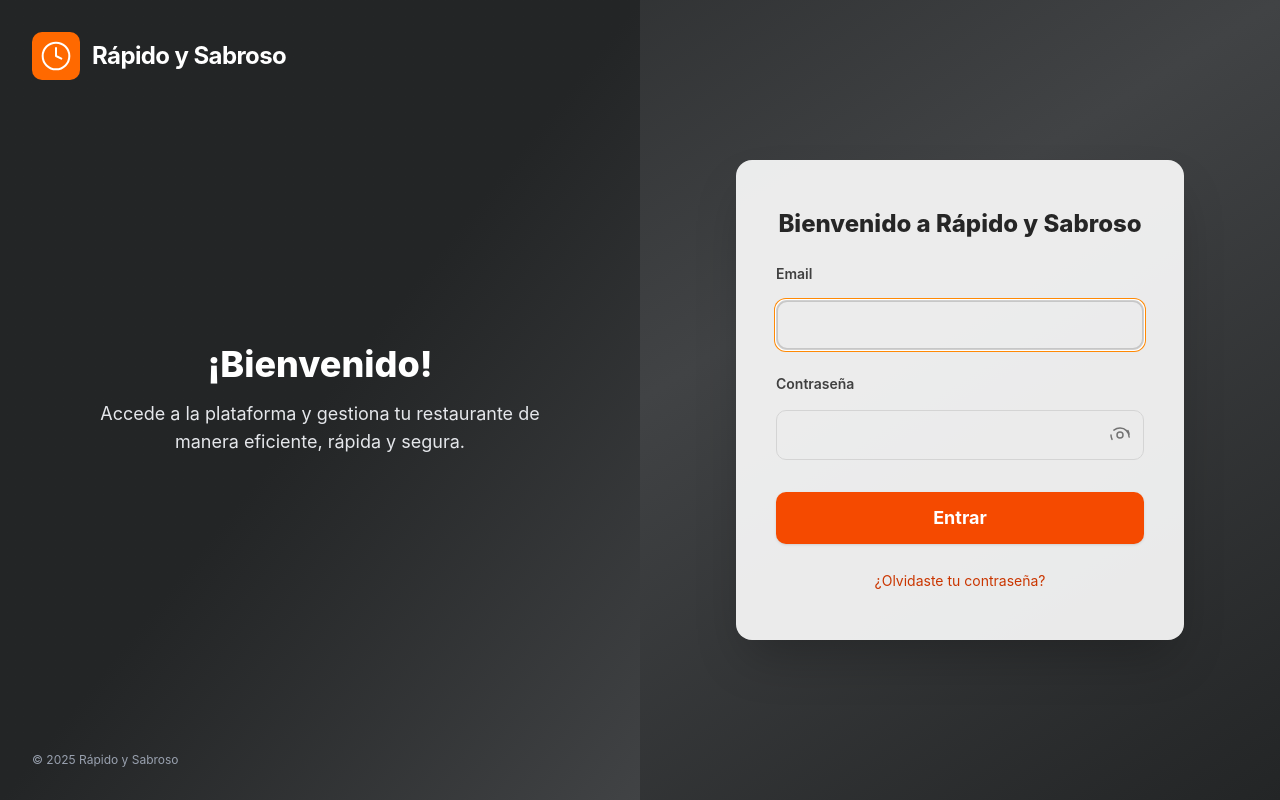
Scenario: Login › shows network error on fetch failure
The width and height of the screenshot is (1280, 800).
In the field labelled "Email": (960, 325) 776,300 -> 1144,350, type "test@test.com"
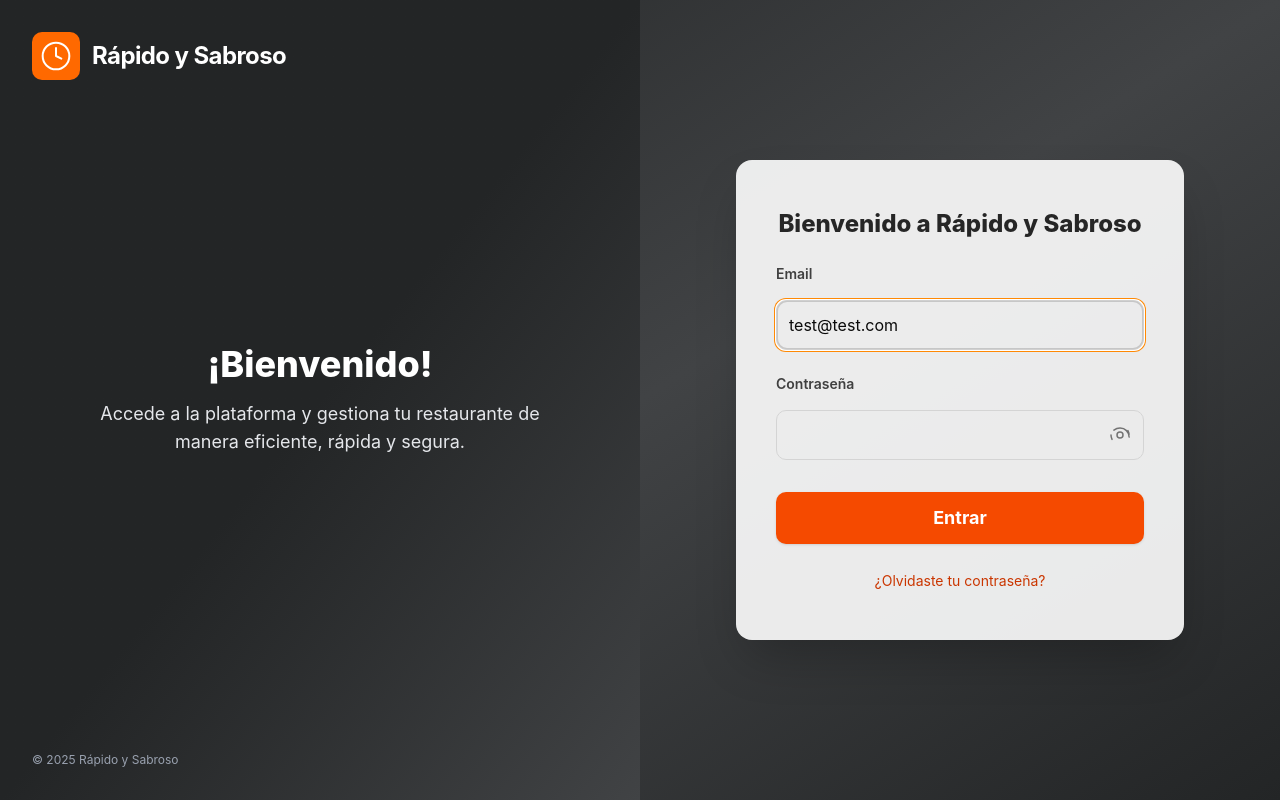
In the password field labelled "Contraseña": (960, 435) 776,410 -> 1144,460, type "password123"
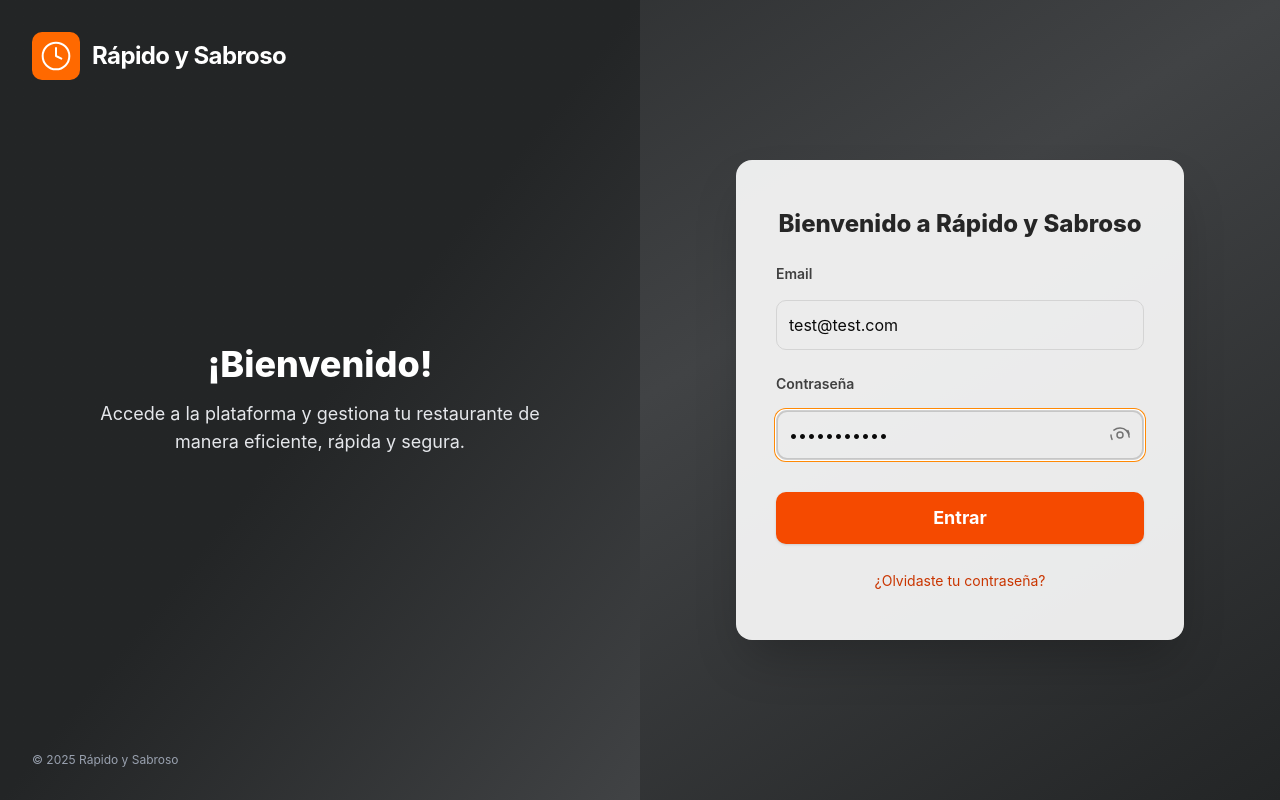
Click the button "Entrar": (960, 518) 776,492 -> 1144,544
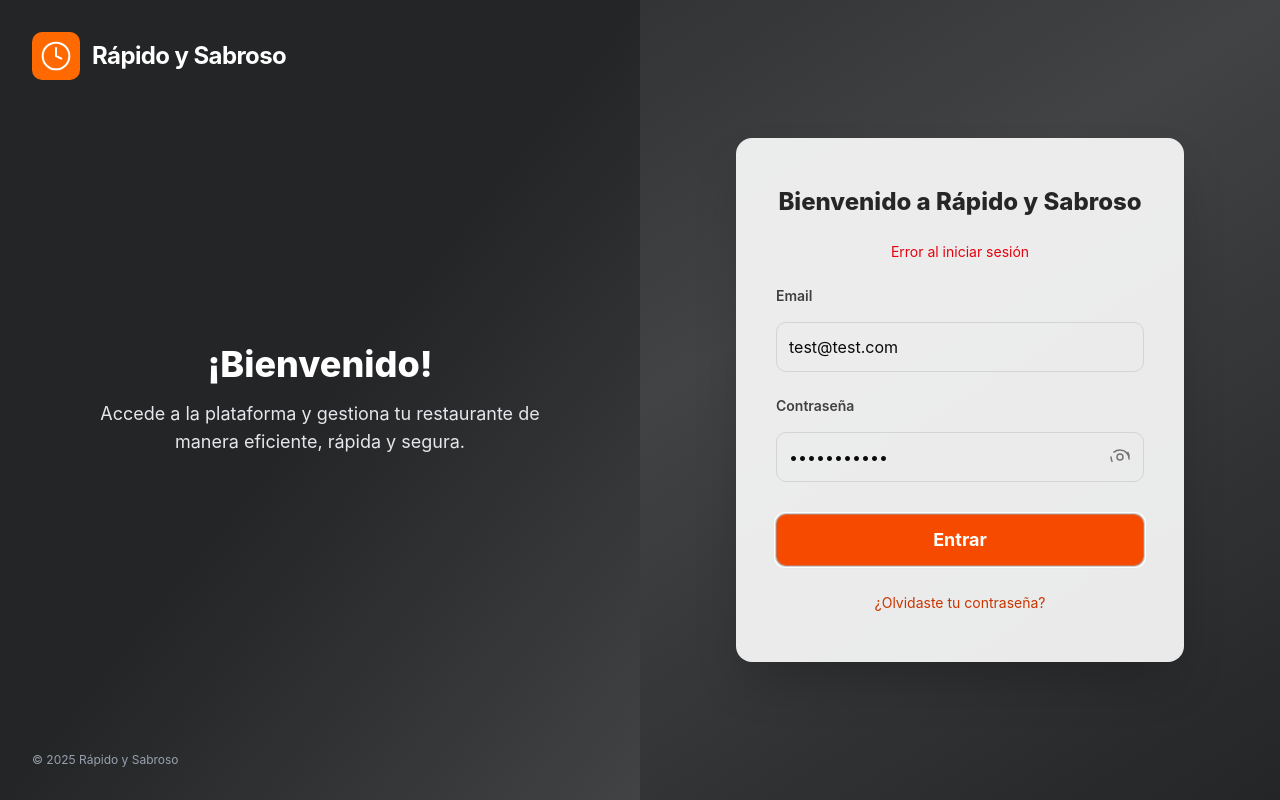
Expected: the text "Error al iniciar sesión" is shown, 891,243 -> 1029,260
